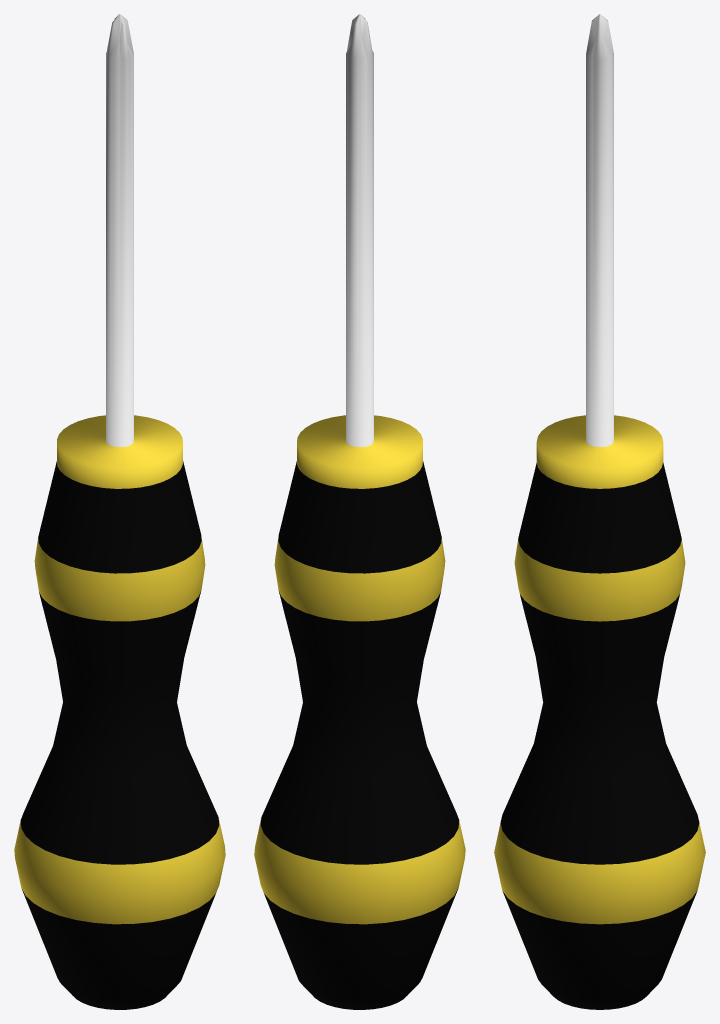
The model's file is Screw Driver.glb.
The picture shows the model from 3 angles, left to right: view 1: azimuth 30°, elevation 25°; view 2: azimuth 150°, elevation 25°; view 3: azimuth 270°, elevation 25°; orthographic projection.
Parts seen in each view (by area): view 1: Screw Driver; view 2: Screw Driver; view 3: Screw Driver.
Boxes of the visible parts, x1,y1,x2,y2 form: Screw Driver: [14, 14, 225, 1009]; Screw Driver: [254, 14, 465, 1009]; Screw Driver: [494, 14, 705, 1009].
Size of the model in its own units: 0.04 by 0.2045 by 0.04.
